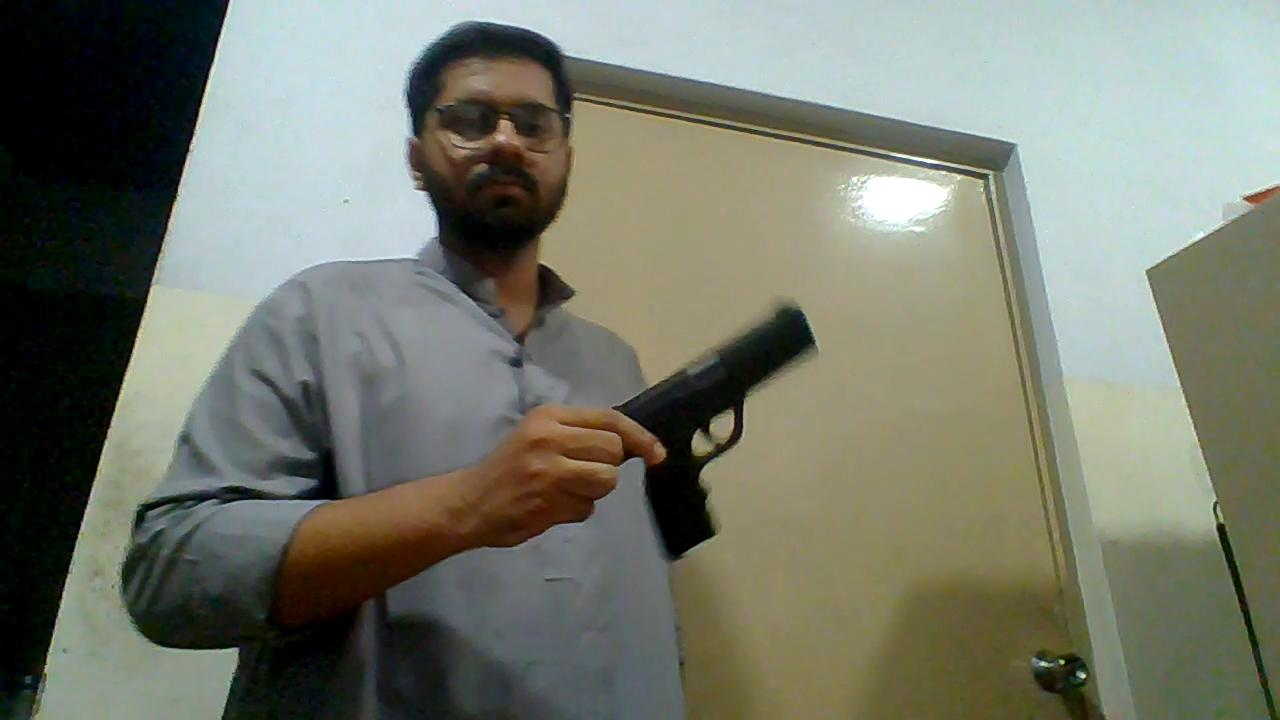criminal: (120, 20, 820, 720)
weapon: (607, 297, 820, 562)
